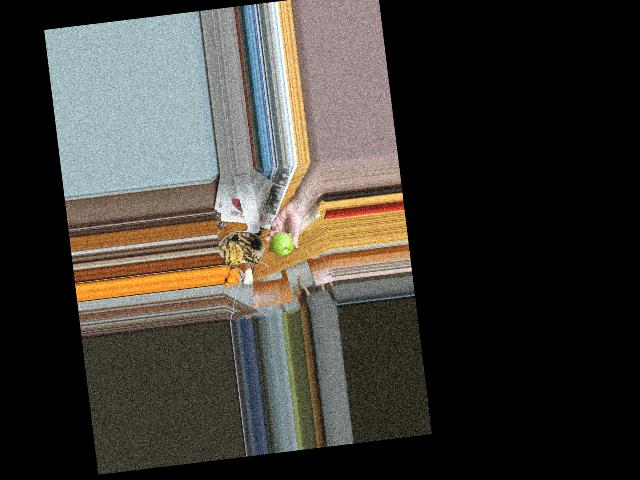apple: (268, 229, 294, 258)
